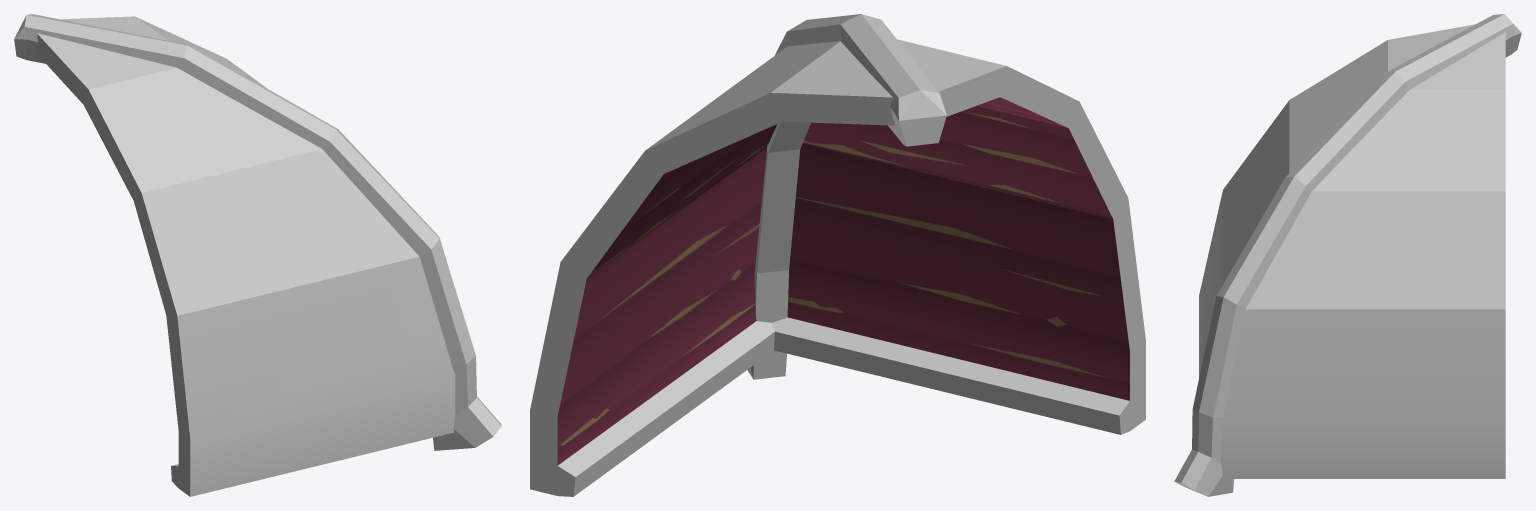
The model's file is SM_Bld_Roof_Convex_Corner_Out_01.fbx.
The picture shows the model from 3 angles, left to right: view 1: azimuth 30°, elevation 25°; view 2: azimuth 150°, elevation 25°; view 3: azimuth 270°, elevation 25°; orthographic projection. The views are drawn at different scales.
Visible parts, largest first — view 1: SM_Bld_Roof_Convex_Corner_Out_01; view 2: SM_Bld_Roof_Convex_Corner_Out_01; view 3: SM_Bld_Roof_Convex_Corner_Out_01.
Part boxes in pixels (<box>): SM_Bld_Roof_Convex_Corner_Out_01: <box>14,14,501,496</box>; SM_Bld_Roof_Convex_Corner_Out_01: <box>530,14,1145,496</box>; SM_Bld_Roof_Convex_Corner_Out_01: <box>1174,14,1521,496</box>.
Size of the model in its own units: 294 by 333 by 294.
